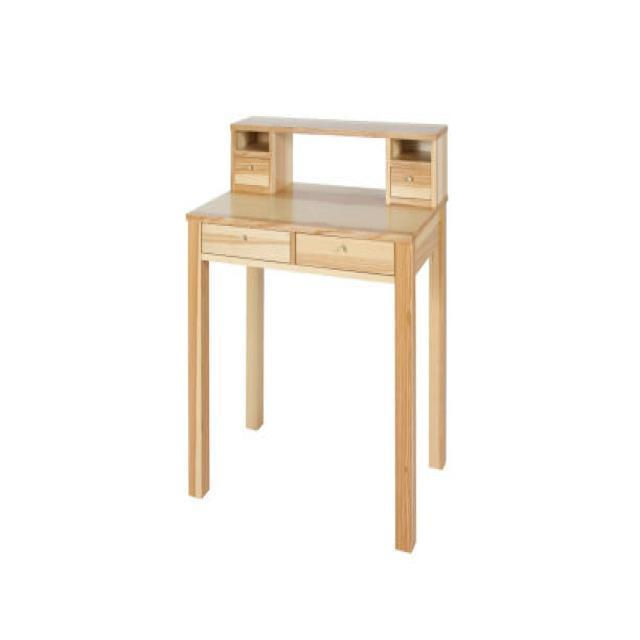table: (185, 115, 449, 552)
